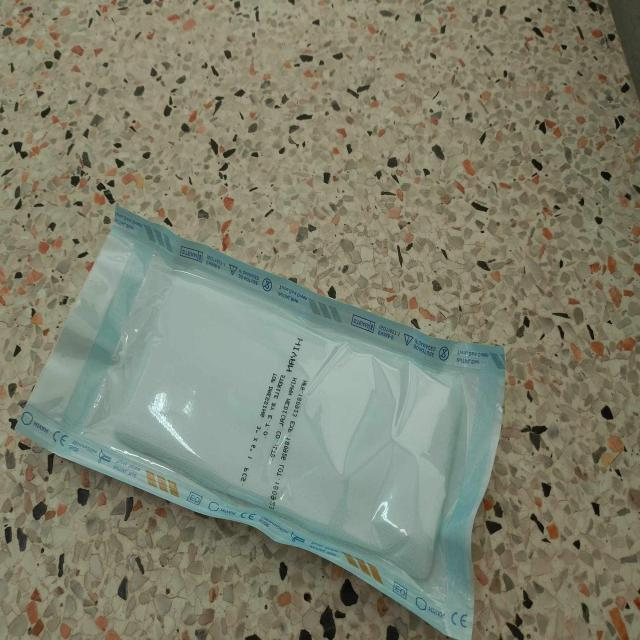Infectious: (15, 204, 508, 637)
